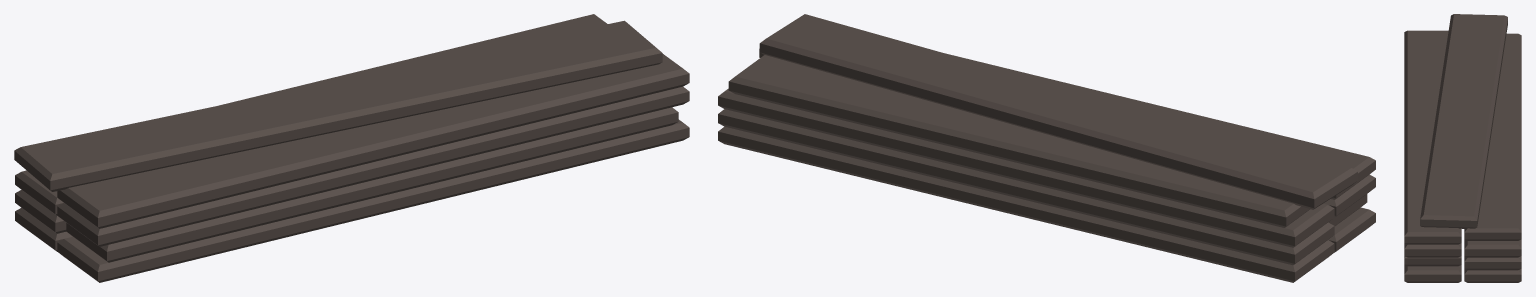
Rendered from props_82.glb.
3 renders of one model, left to right at view 1: azimuth 30°, elevation 25°; view 2: azimuth 150°, elevation 25°; view 3: azimuth 270°, elevation 25°, orthographic. The views are drawn at different scales.
Parts seen in each view (by area): view 1: props_82; view 2: props_82; view 3: props_82.
Boxes of the visible parts, x1,y1,x2,y2 form: props_82: (14,14,689,282); props_82: (718,14,1375,282); props_82: (1404,14,1521,282).
Bounding box in the file's own units: 3.62 × 0.5047 × 0.8586.
1 material, 1 textured.
